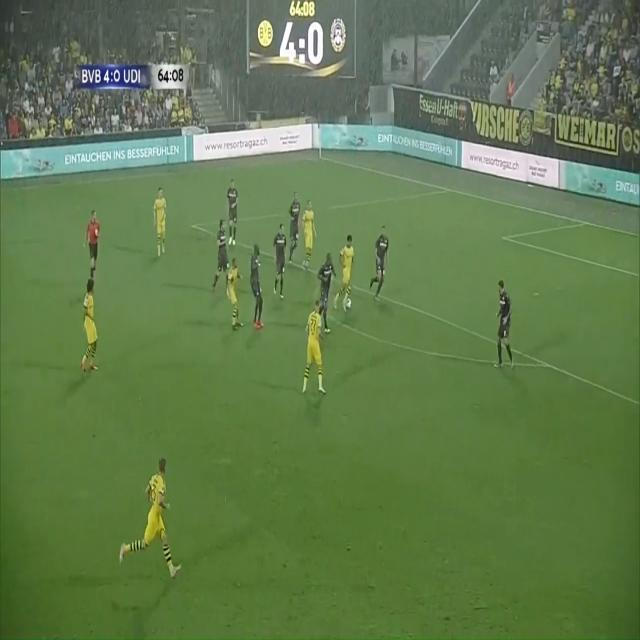ball: (345, 293, 355, 316)
player: (120, 448, 194, 601), (76, 265, 108, 389), (483, 281, 519, 371), (334, 224, 360, 330), (147, 173, 176, 263), (245, 241, 272, 336), (319, 247, 345, 344), (304, 301, 330, 396), (267, 206, 291, 308), (224, 241, 245, 344), (210, 209, 232, 298), (370, 218, 392, 305), (224, 169, 246, 252), (301, 199, 320, 277), (286, 191, 302, 274)
referee: (81, 210, 109, 298)
